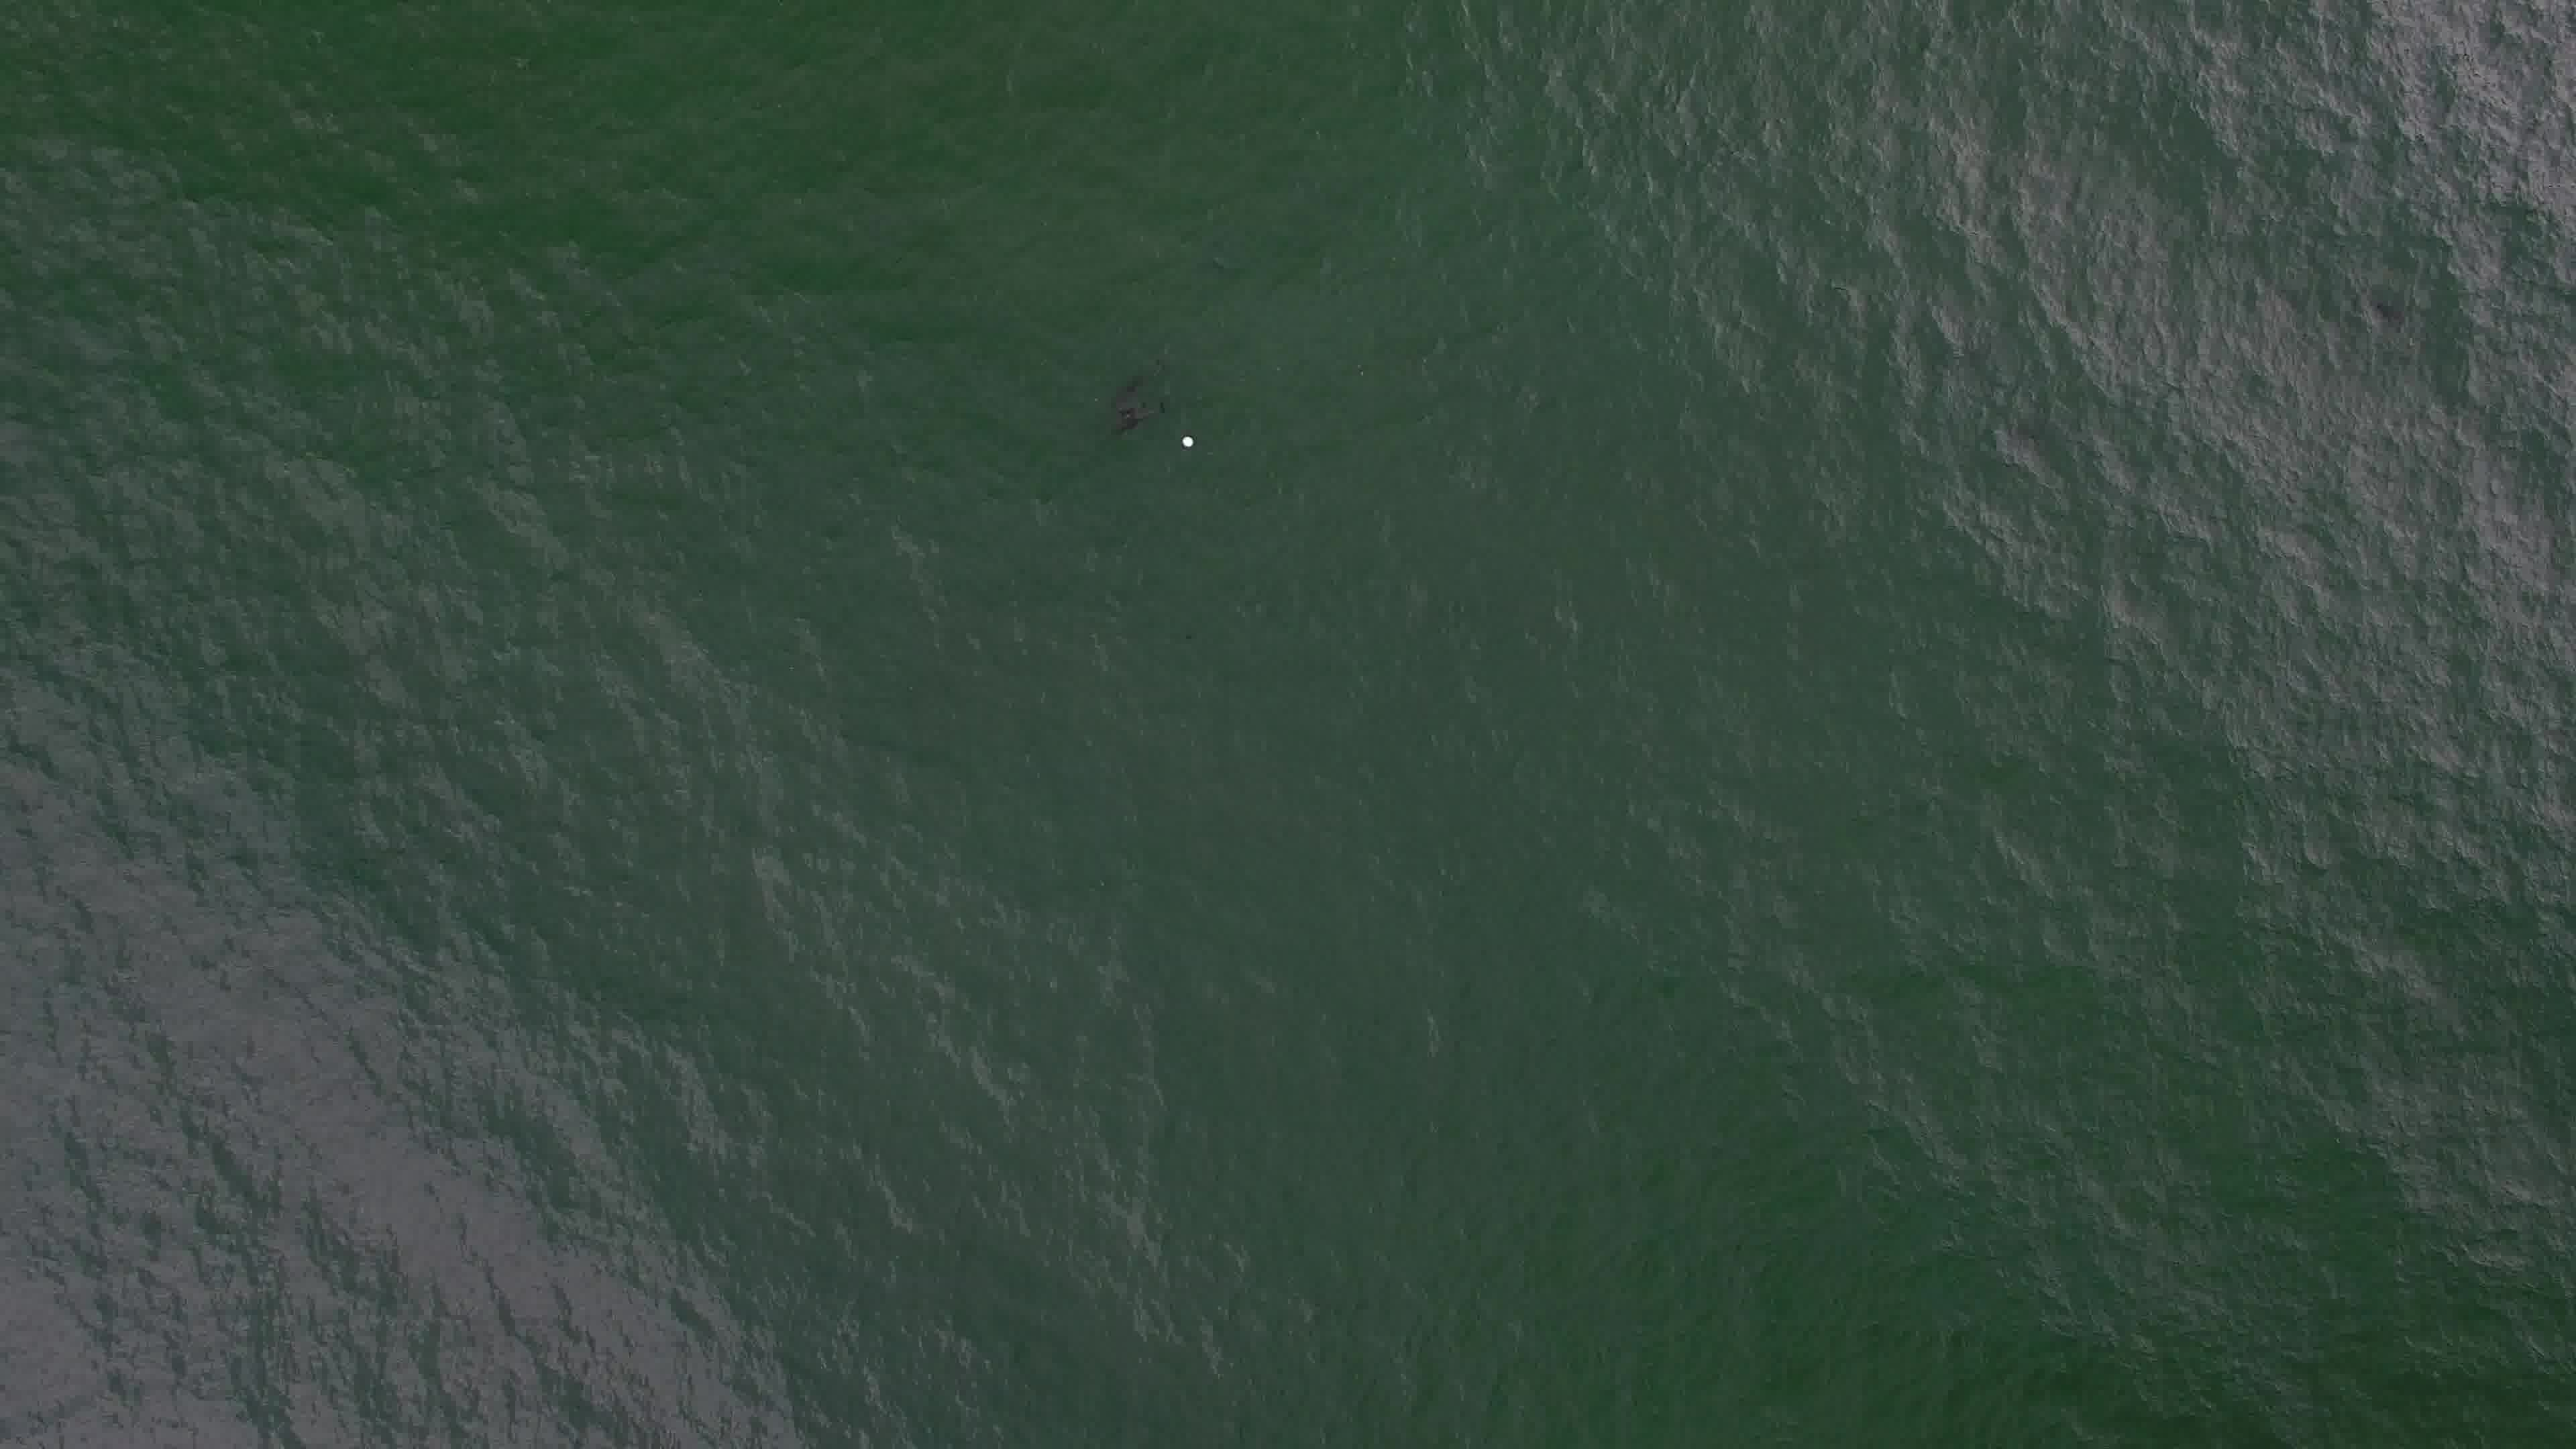dolphin: (1095, 389, 1182, 439), (1083, 361, 1173, 403)
